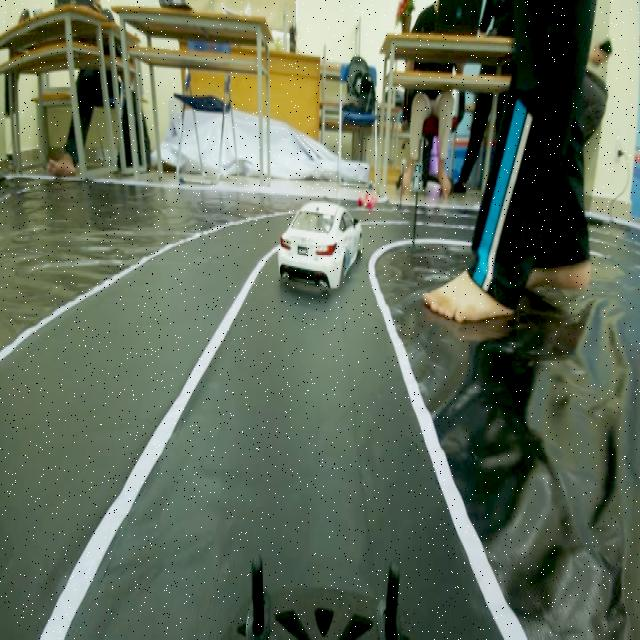car: (277, 179, 363, 298)
